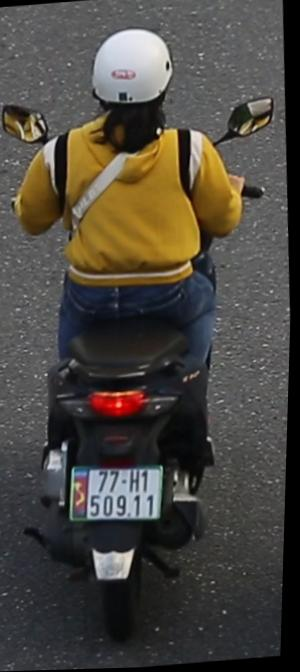LP: (66, 458, 172, 533)
helmet: (85, 21, 183, 142)
